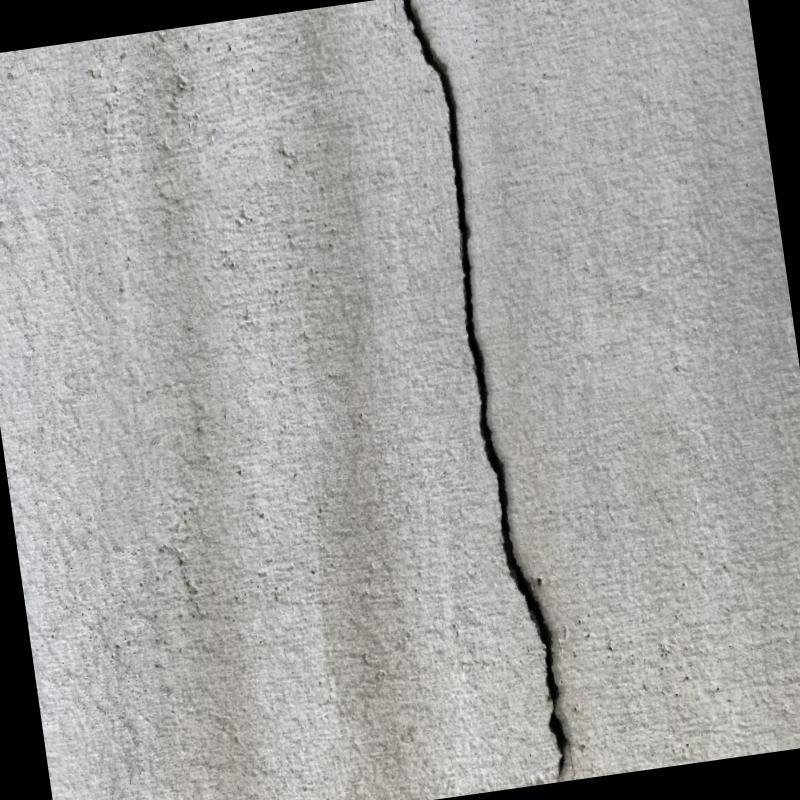crack: (399, 0, 569, 780)
